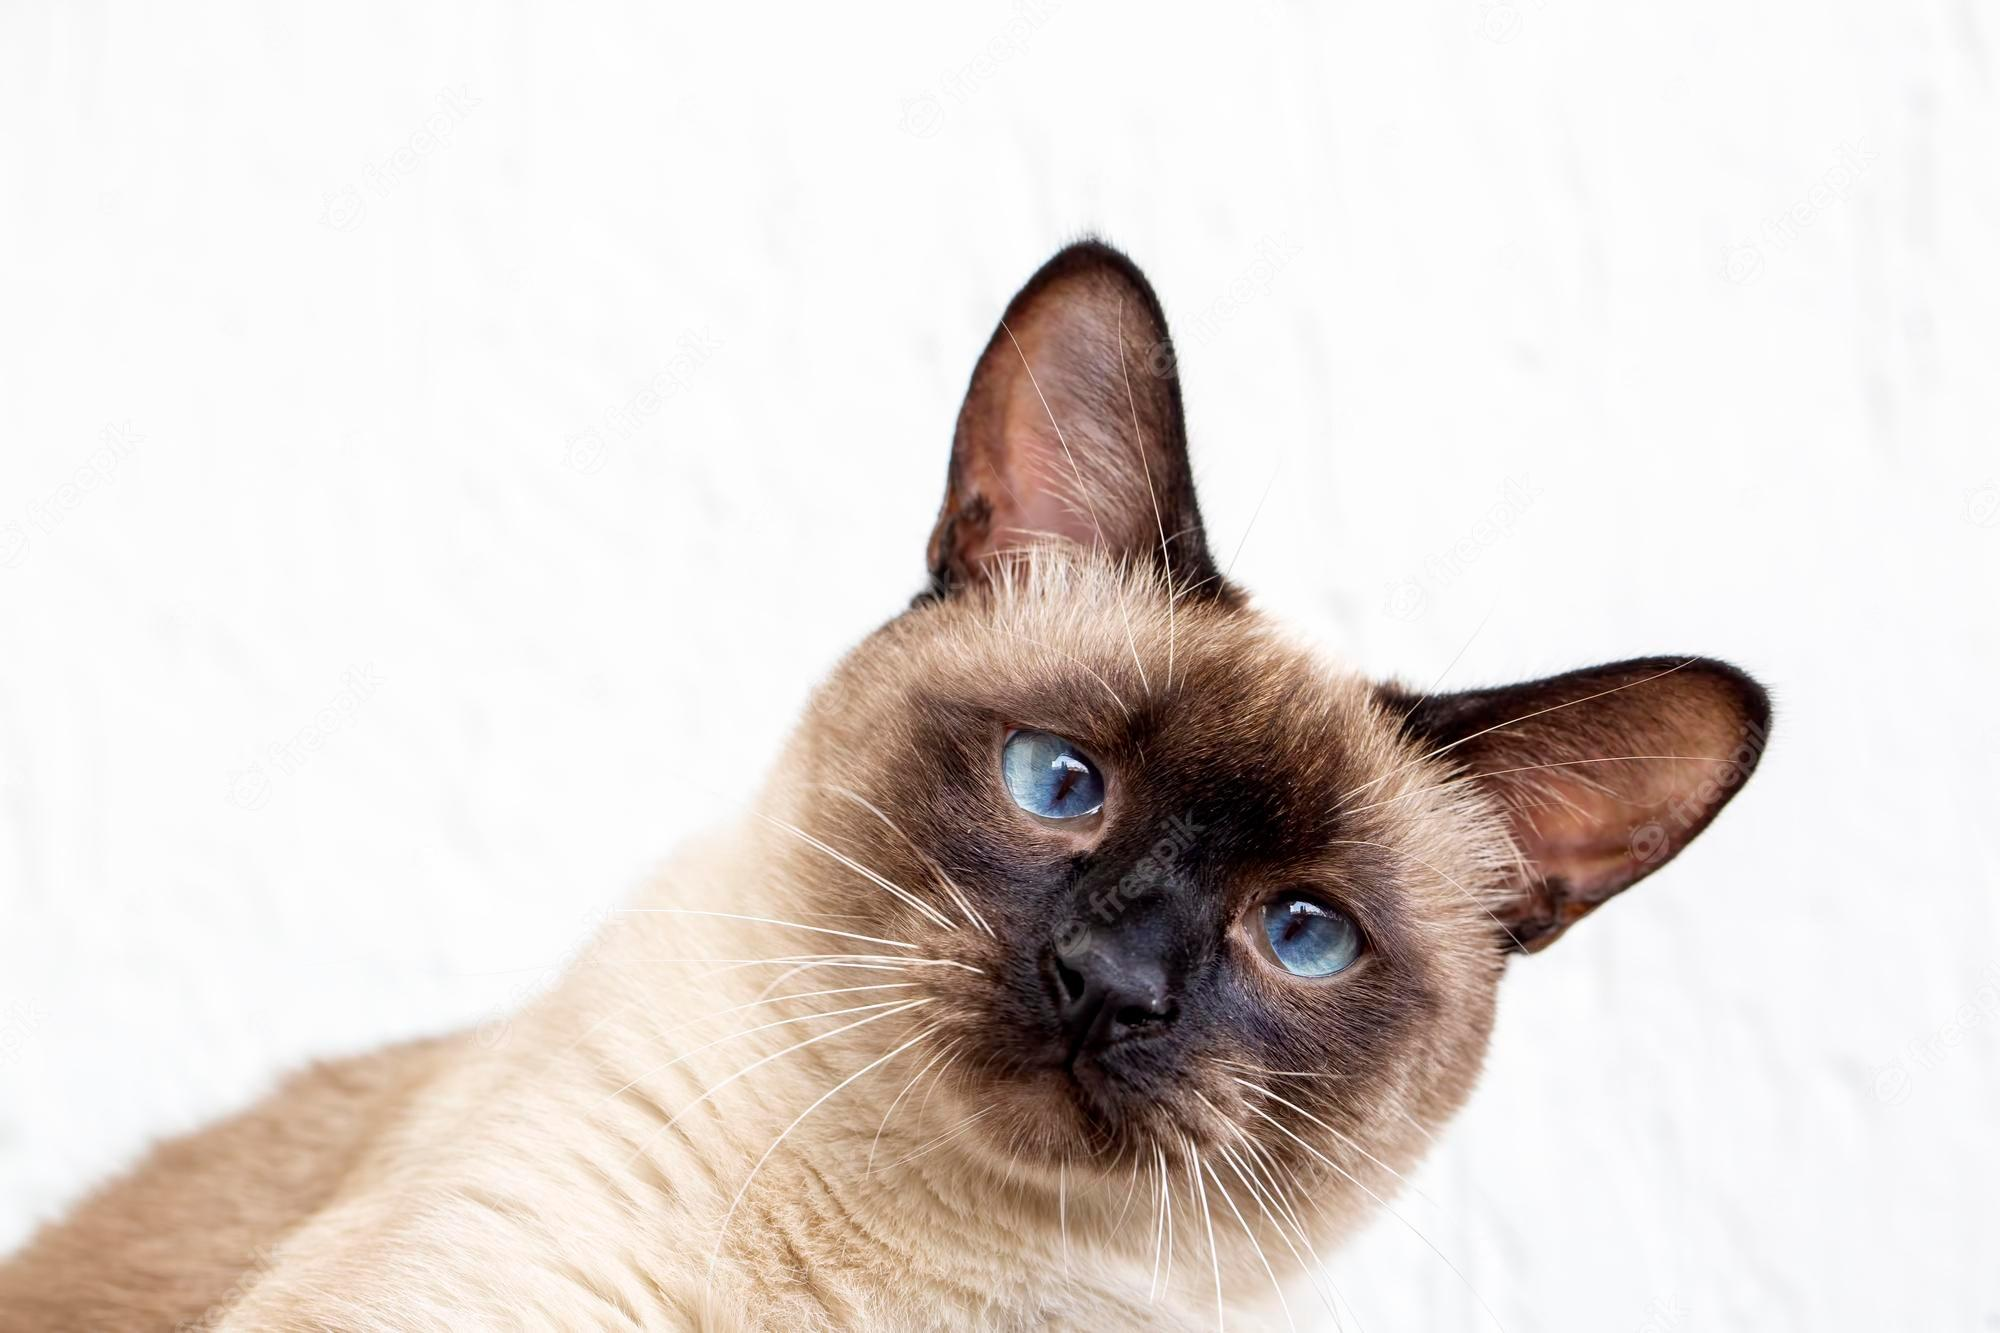siamese: (767, 225, 1796, 1265)
